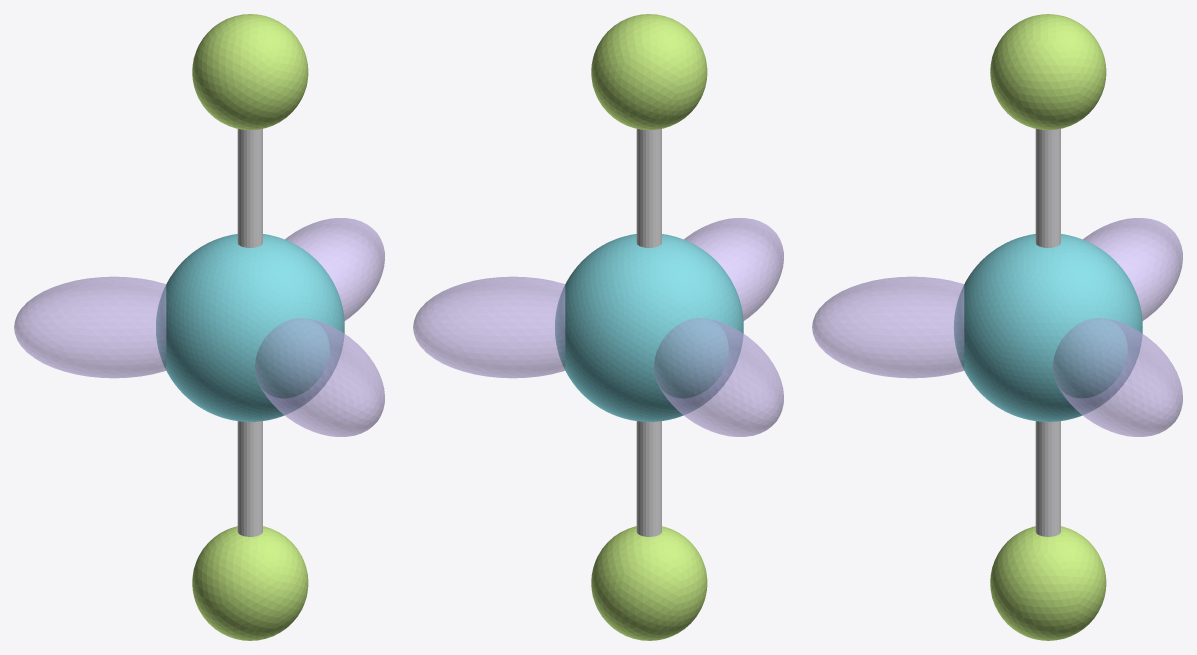
Rendered from XeF2.glb.
3 renders of one model, left to right at view 1: azimuth 30°, elevation 25°; view 2: azimuth 150°, elevation 25°; view 3: azimuth 270°, elevation 25°, orthographic.
Visible parts, largest first — view 1: Xe_centre, lone_pair_3, lone_pair_2, F_0, F_1, lone_pair_4, bond_0, bond_1; view 2: Xe_centre, lone_pair_4, lone_pair_3, F_0, F_1, lone_pair_2, bond_0, bond_1; view 3: Xe_centre, lone_pair_2, lone_pair_4, F_0, F_1, lone_pair_3, bond_0, bond_1.
Boxes of the visible parts, bbox=[...] form: Xe_centre: bbox=[156, 234, 344, 421]; lone_pair_3: bbox=[14, 276, 165, 378]; lone_pair_2: bbox=[255, 318, 384, 436]; F_0: bbox=[192, 14, 308, 130]; F_1: bbox=[192, 526, 308, 640]; lone_pair_4: bbox=[285, 218, 384, 320]; bond_0: bbox=[237, 128, 262, 247]; bond_1: bbox=[237, 421, 262, 536]; Xe_centre: bbox=[555, 234, 743, 421]; lone_pair_4: bbox=[413, 276, 564, 378]; lone_pair_3: bbox=[654, 318, 783, 436]; F_0: bbox=[591, 14, 707, 130]; F_1: bbox=[591, 526, 707, 640]; lone_pair_2: bbox=[684, 218, 783, 320]; bond_0: bbox=[636, 129, 661, 247]; bond_1: bbox=[636, 421, 661, 536]; Xe_centre: bbox=[953, 234, 1142, 421]; lone_pair_2: bbox=[812, 276, 963, 378]; lone_pair_4: bbox=[1053, 318, 1182, 436]; F_0: bbox=[990, 14, 1106, 130]; F_1: bbox=[990, 526, 1106, 640]; lone_pair_3: bbox=[1083, 218, 1182, 320]; bond_0: bbox=[1035, 129, 1060, 247]; bond_1: bbox=[1035, 421, 1060, 536].
Bounding box in the file's own units: 0.2292 × 0.374 × 0.2041.
